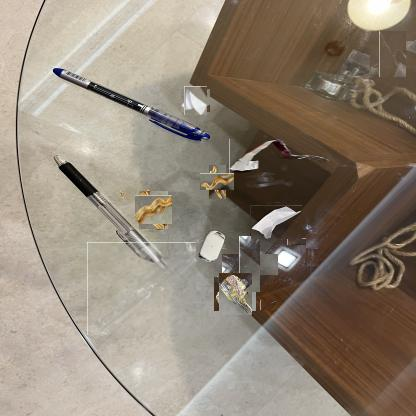dirty: (87, 242, 196, 335), (229, 139, 330, 173), (250, 205, 302, 239), (216, 275, 254, 313), (137, 193, 170, 227), (205, 169, 230, 195), (183, 88, 208, 113), (119, 190, 125, 198)
mark: (326, 21, 350, 109), (231, 245, 269, 284), (375, 36, 411, 73), (306, 248, 318, 266), (260, 300, 277, 310), (287, 238, 306, 245)
